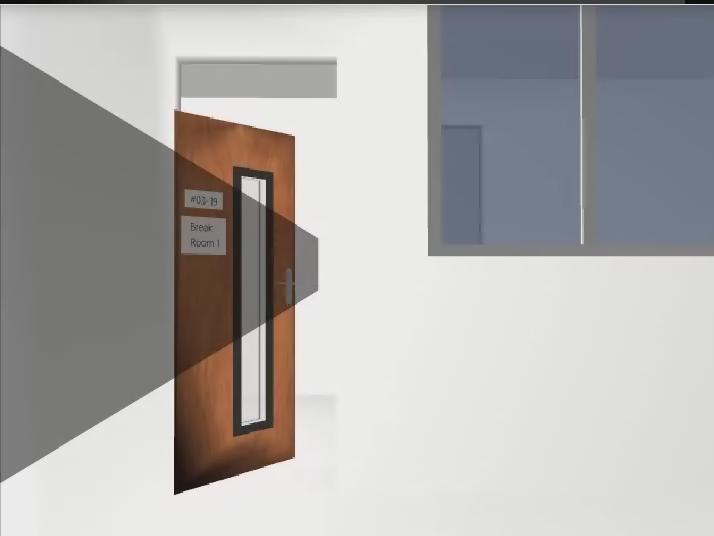door: (174, 111, 295, 495)
